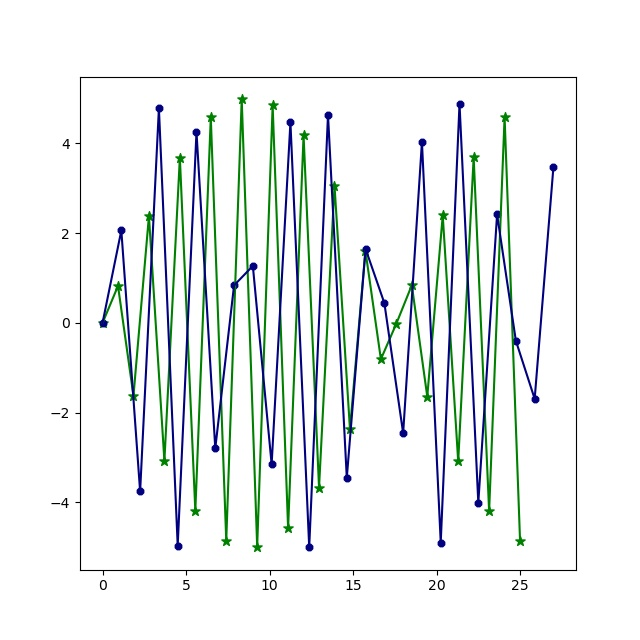octagon: (98, 318, 108, 328), (117, 226, 127, 236), (136, 487, 146, 497), (154, 104, 164, 114), (173, 541, 183, 551), (192, 127, 202, 137), (211, 444, 221, 454), (230, 281, 240, 291), (248, 261, 258, 271), (267, 460, 277, 470), (286, 118, 296, 128), (305, 543, 315, 553), (324, 110, 334, 120), (342, 473, 352, 483), (361, 244, 371, 254), (380, 299, 390, 309), (399, 429, 409, 439), (417, 137, 427, 147), (436, 538, 446, 548), (455, 99, 465, 109), (474, 498, 484, 508), (493, 210, 503, 220), (511, 336, 521, 346), (530, 394, 540, 404), (549, 162, 559, 172)
star: (97, 317, 109, 329), (113, 280, 125, 292), (128, 390, 140, 402), (143, 210, 155, 222), (159, 455, 171, 467), (174, 152, 186, 164), (190, 505, 202, 517), (205, 112, 217, 124), (221, 535, 233, 547), (236, 94, 248, 106), (252, 541, 264, 553), (267, 100, 279, 112), (283, 523, 295, 535), (298, 130, 310, 142), (314, 482, 326, 494), (329, 180, 341, 192), (344, 424, 356, 436), (360, 245, 372, 257), (375, 354, 387, 366), (391, 318, 403, 330), (406, 280, 418, 292), (422, 391, 434, 403), (437, 210, 449, 222), (453, 456, 465, 468), (468, 152, 480, 164), (484, 506, 496, 518), (499, 111, 511, 123), (515, 535, 527, 547)
